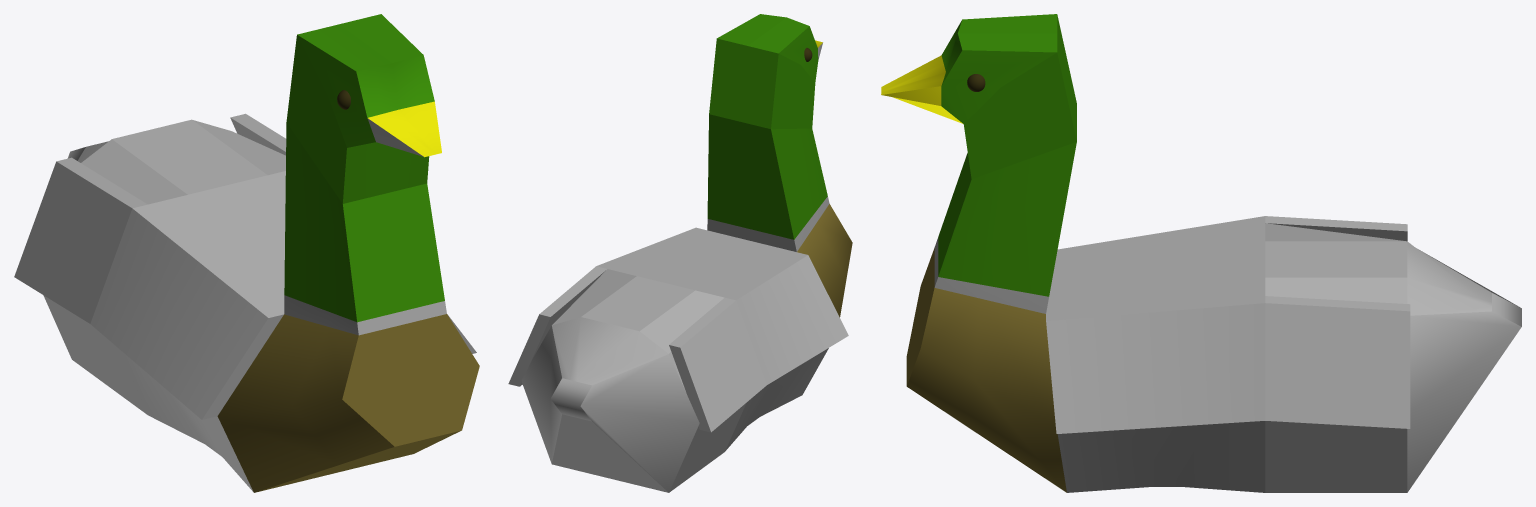
File: sitting-duck.fbx
3 renders of one model, left to right at view 1: azimuth 30°, elevation 25°; view 2: azimuth 150°, elevation 25°; view 3: azimuth 270°, elevation 25°, orthographic. The views are drawn at different scales.
Parts seen in each view (by area): view 1: pasted__pCube1; view 2: pasted__pCube1; view 3: pasted__pCube1.
Part boxes in pixels (x1,y1,x2,y2): pasted__pCube1: [14, 14, 479, 492]; pasted__pCube1: [508, 14, 852, 492]; pasted__pCube1: [881, 14, 1521, 492].
Bounding box in the file's own units: 1.5 × 2.36 × 3.23.
